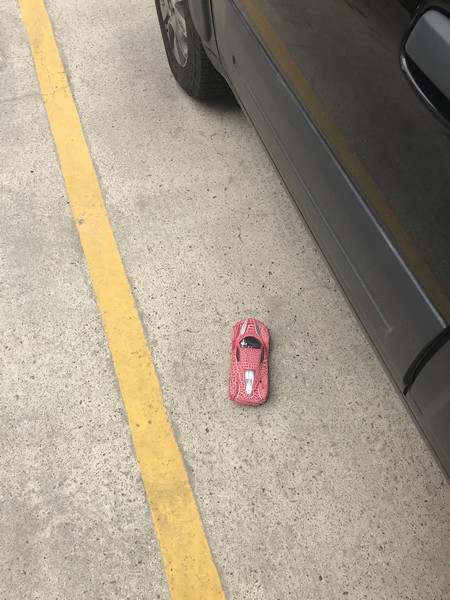RC: (227, 317, 274, 406)
